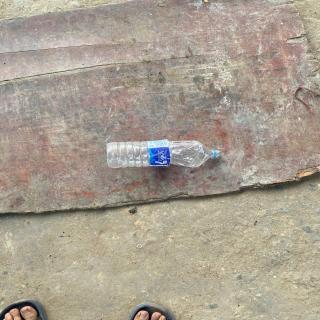Plastic-bottle: (105, 138, 225, 170)
